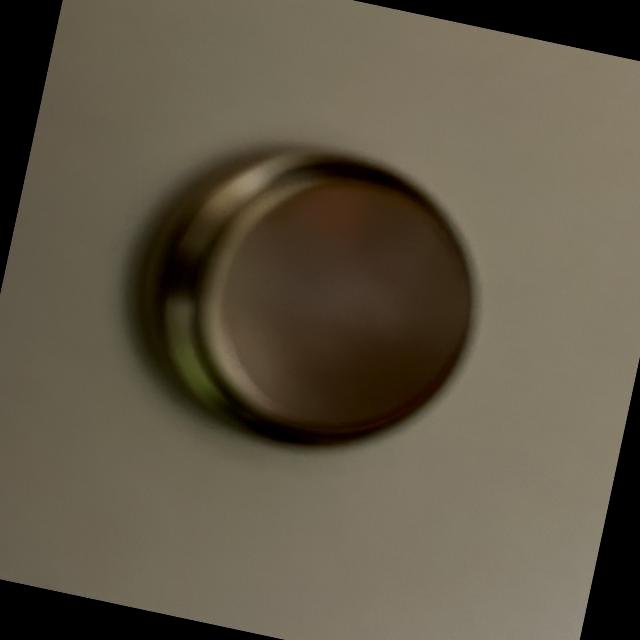COIN: (110, 113, 511, 478)
